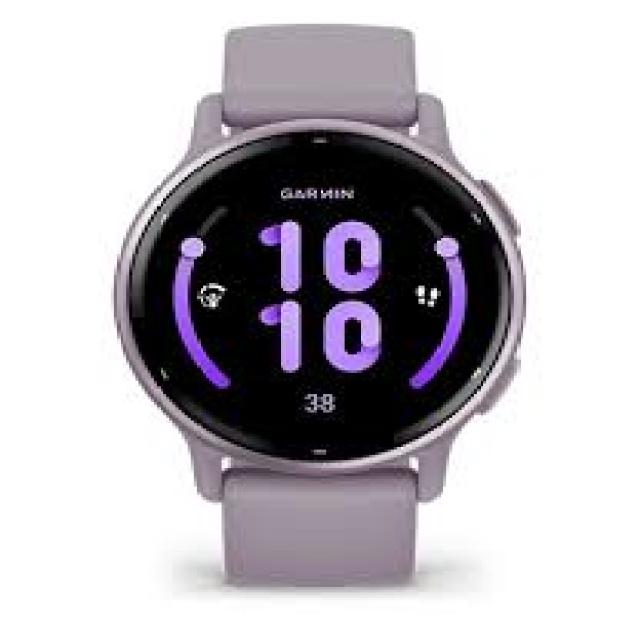objects: (117, 29, 523, 579)
